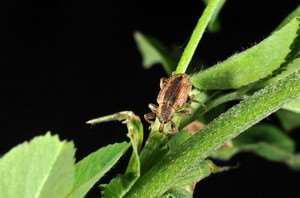weevils: (128, 53, 213, 151)
